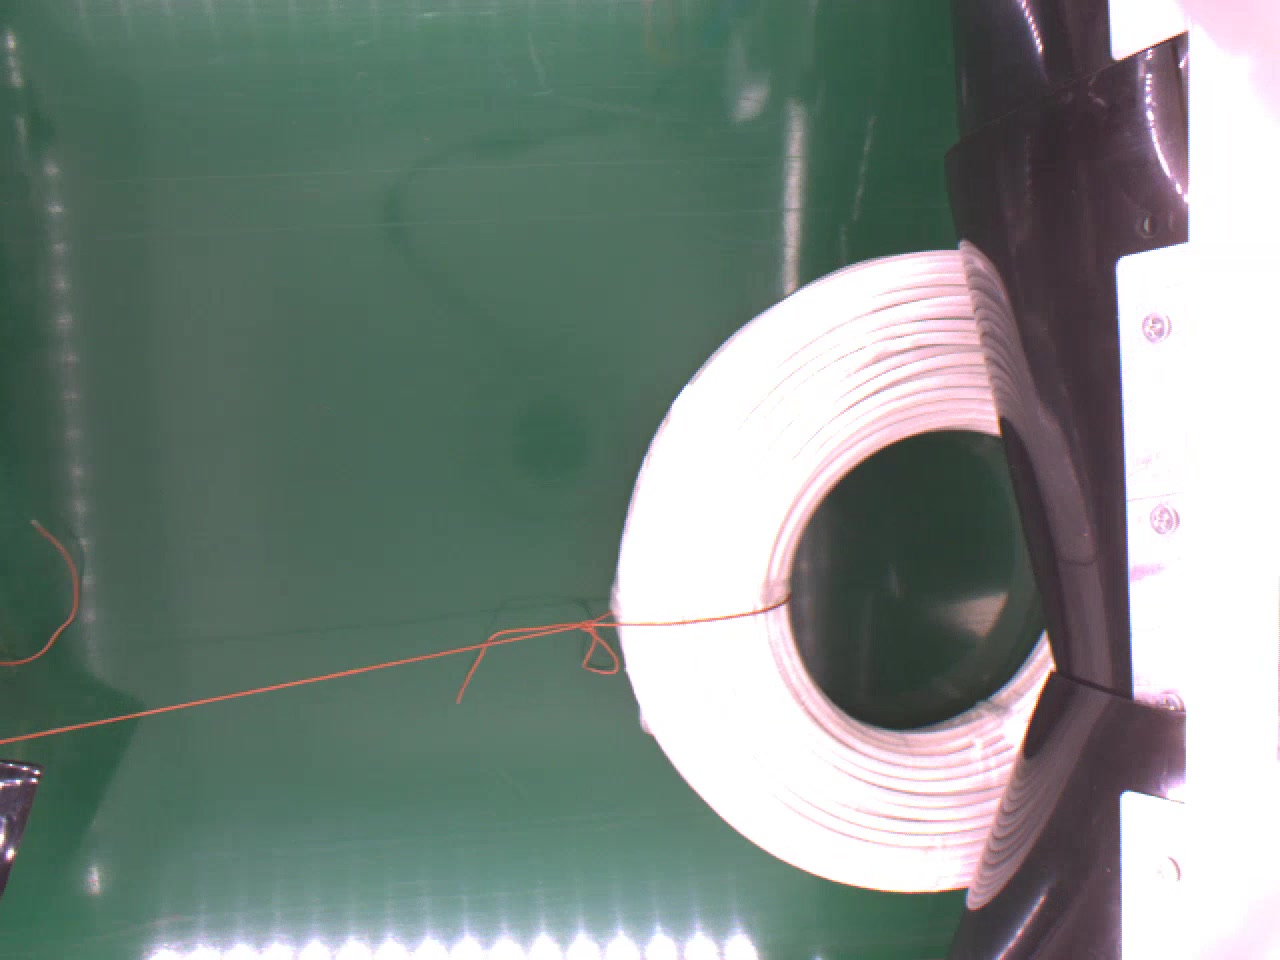white: (611, 247, 1053, 894)
